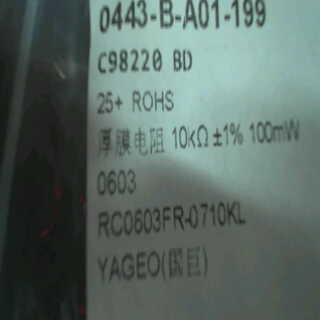10kR: (168, 120, 210, 151)
